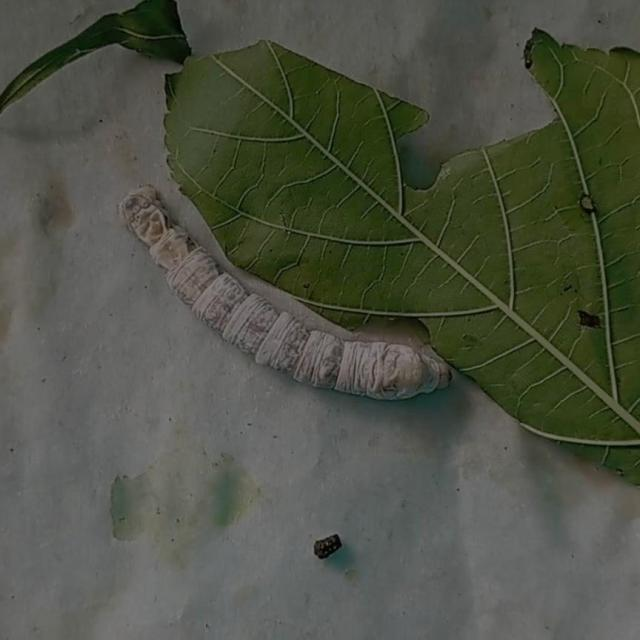Grasserie: (110, 174, 463, 430)
